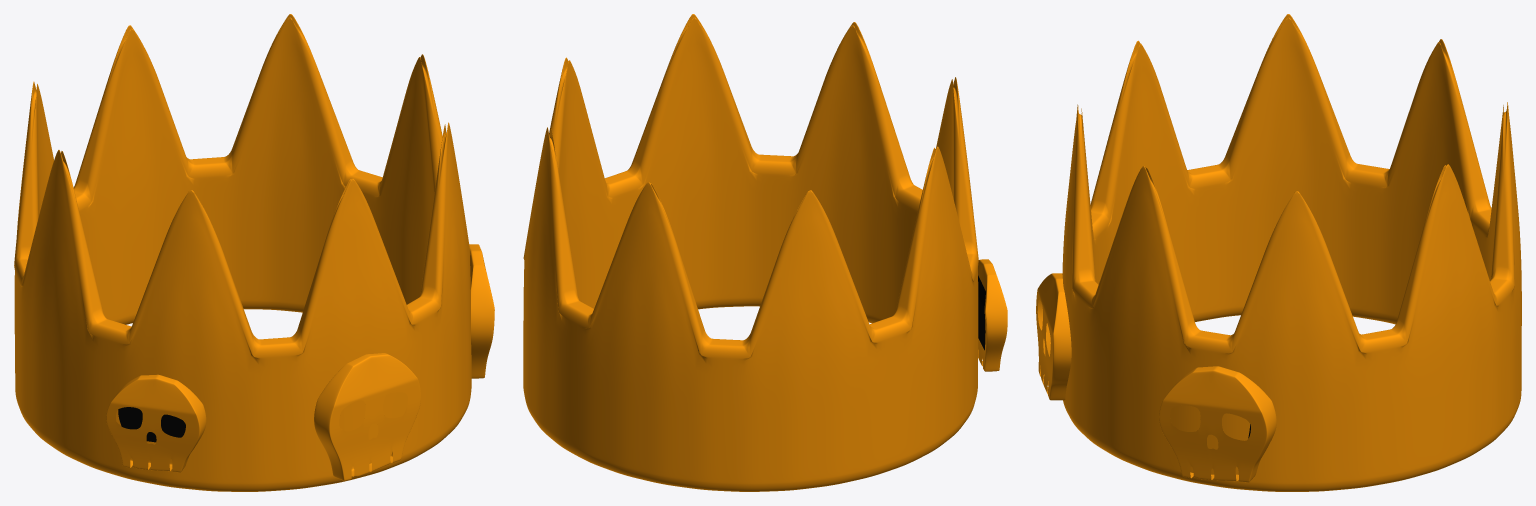
The model's file is DefeatCrown.fbx.
3 views of the same model, side by side, from view 1: azimuth 30°, elevation 25°; view 2: azimuth 150°, elevation 25°; view 3: azimuth 270°, elevation 25° (orthographic).
Visible parts, largest first — view 1: Circle, Cube.004, Cube.006, Cube.007; view 2: Circle, Cube.006; view 3: Circle, Cube.007, Cube.004.
Part boxes in pixels (x1,y1,x2,y2): Circle: [14, 14, 471, 491]; Cube.004: [314, 353, 420, 480]; Cube.006: [106, 374, 206, 472]; Cube.007: [469, 244, 494, 378]; Circle: [523, 14, 978, 491]; Cube.006: [978, 259, 1007, 371]; Circle: [1062, 14, 1521, 491]; Cube.007: [1159, 366, 1276, 482]; Cube.004: [1036, 273, 1071, 400].
Size of the model in its own units: 99.65 by 67.61 by 99.52.
